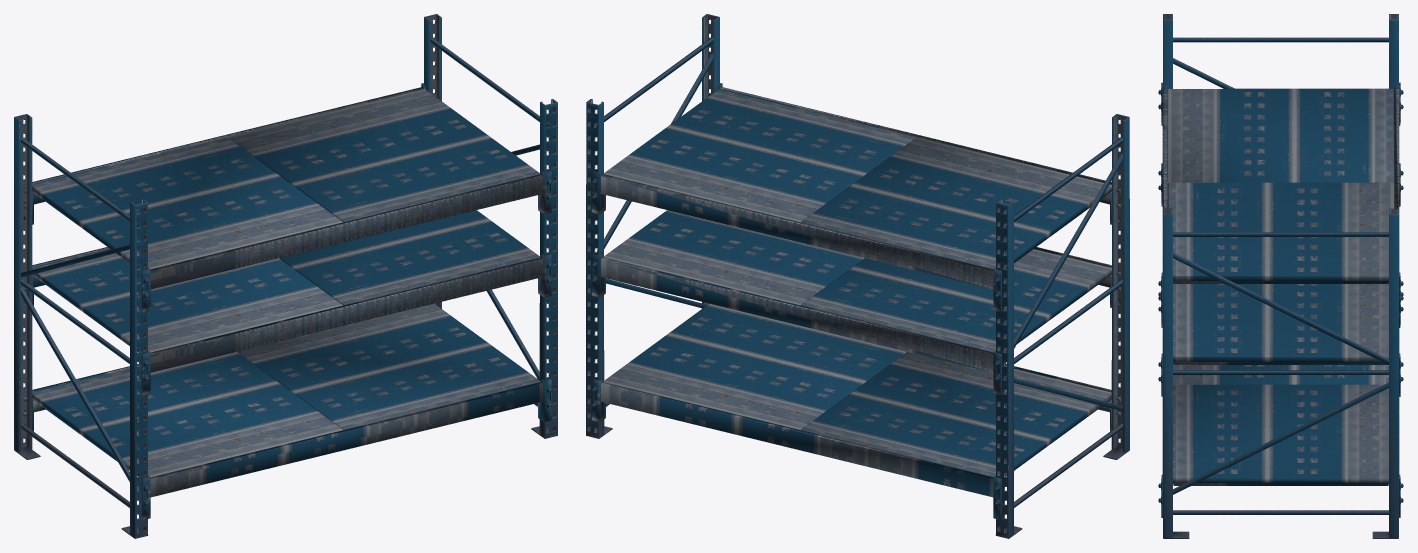
The model's file is rack_large_empty_a02.glb.
The picture shows the model from 3 angles, left to right: view 1: azimuth 30°, elevation 25°; view 2: azimuth 150°, elevation 25°; view 3: azimuth 270°, elevation 25°; orthographic projection. The views are drawn at different scales.
Visible parts, largest first — view 1: sm_rack_a02_mesh_00; view 2: sm_rack_a02_mesh_00; view 3: sm_rack_a02_mesh_00.
Part boxes in pixels (x1,y1,x2,y2): sm_rack_a02_mesh_00: (14, 14, 557, 538); sm_rack_a02_mesh_00: (586, 14, 1129, 538); sm_rack_a02_mesh_00: (1158, 14, 1403, 538).
Bounding box in the file's own units: 4 × 3.01 × 2.07.
2 materials, 2 textured.
